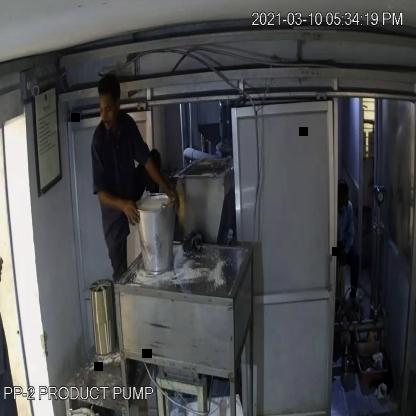no_glove: (92, 175, 146, 238), (138, 138, 179, 216)
